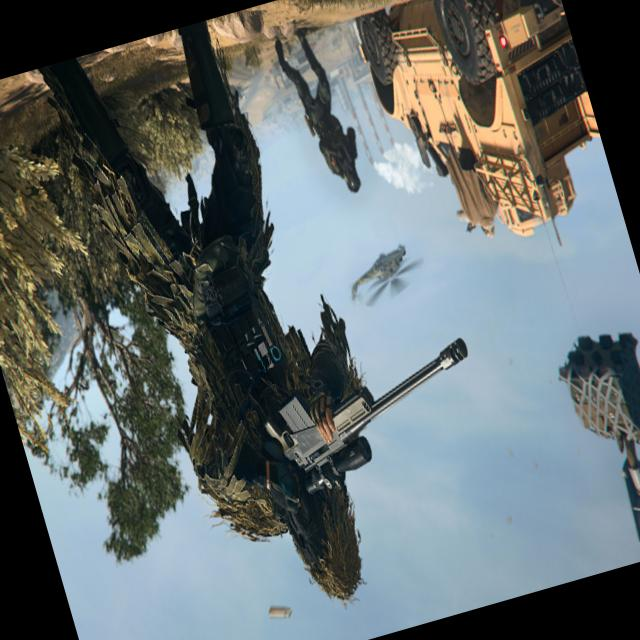Weapon: (224, 325, 500, 520)
